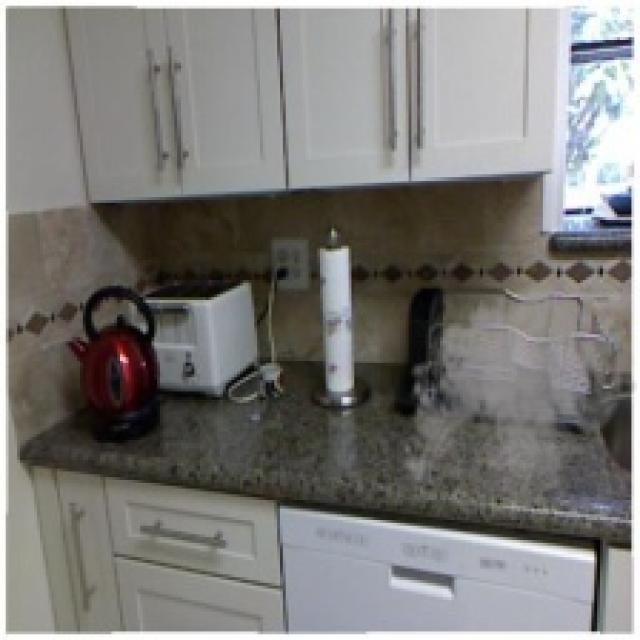Smoke: (397, 274, 637, 523)
